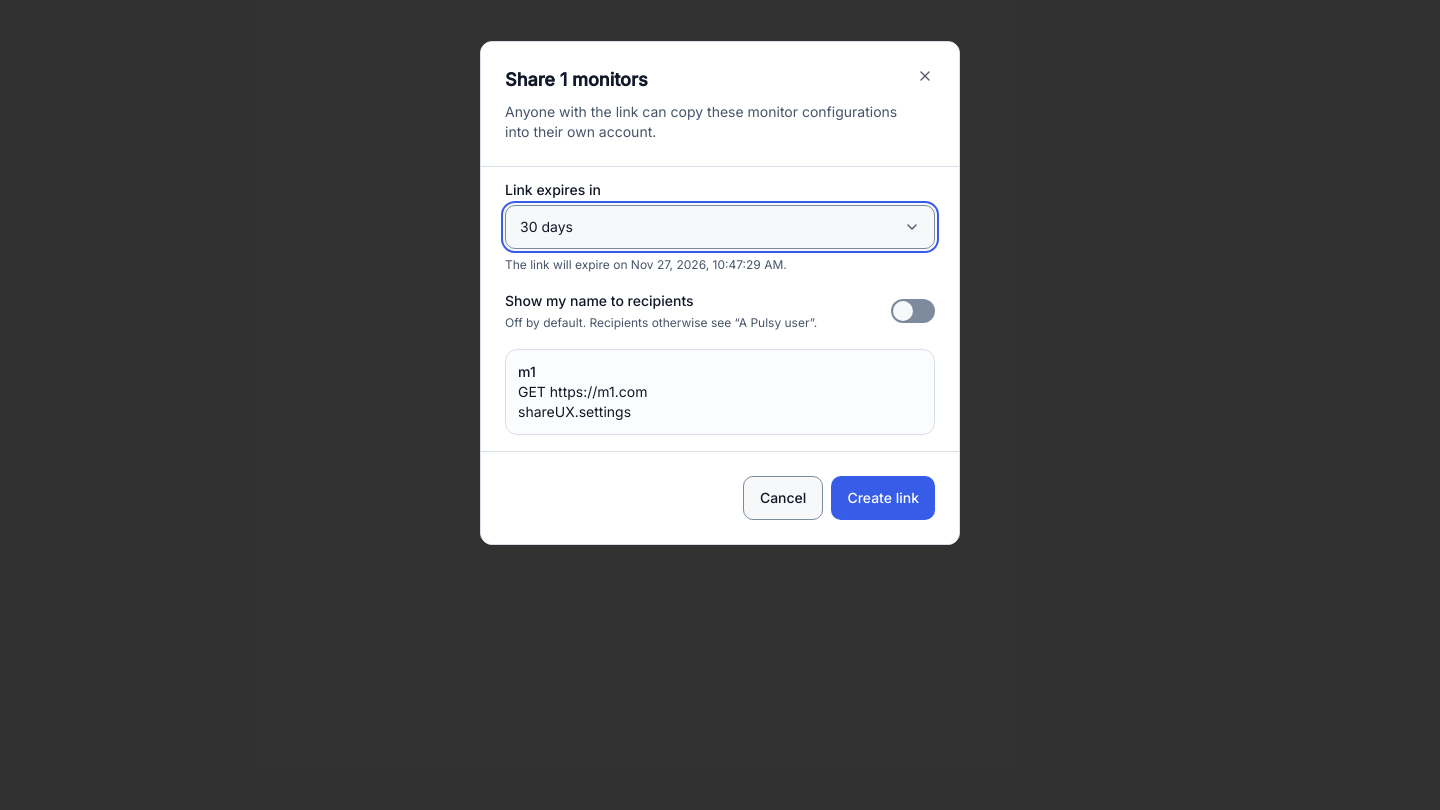
Scenario: ShareMonitorsDialog creation flow › creates a link with the default 30-day expiry and shows the URL
Click the button "Create link" at (883, 498), box [831, 476, 935, 520]
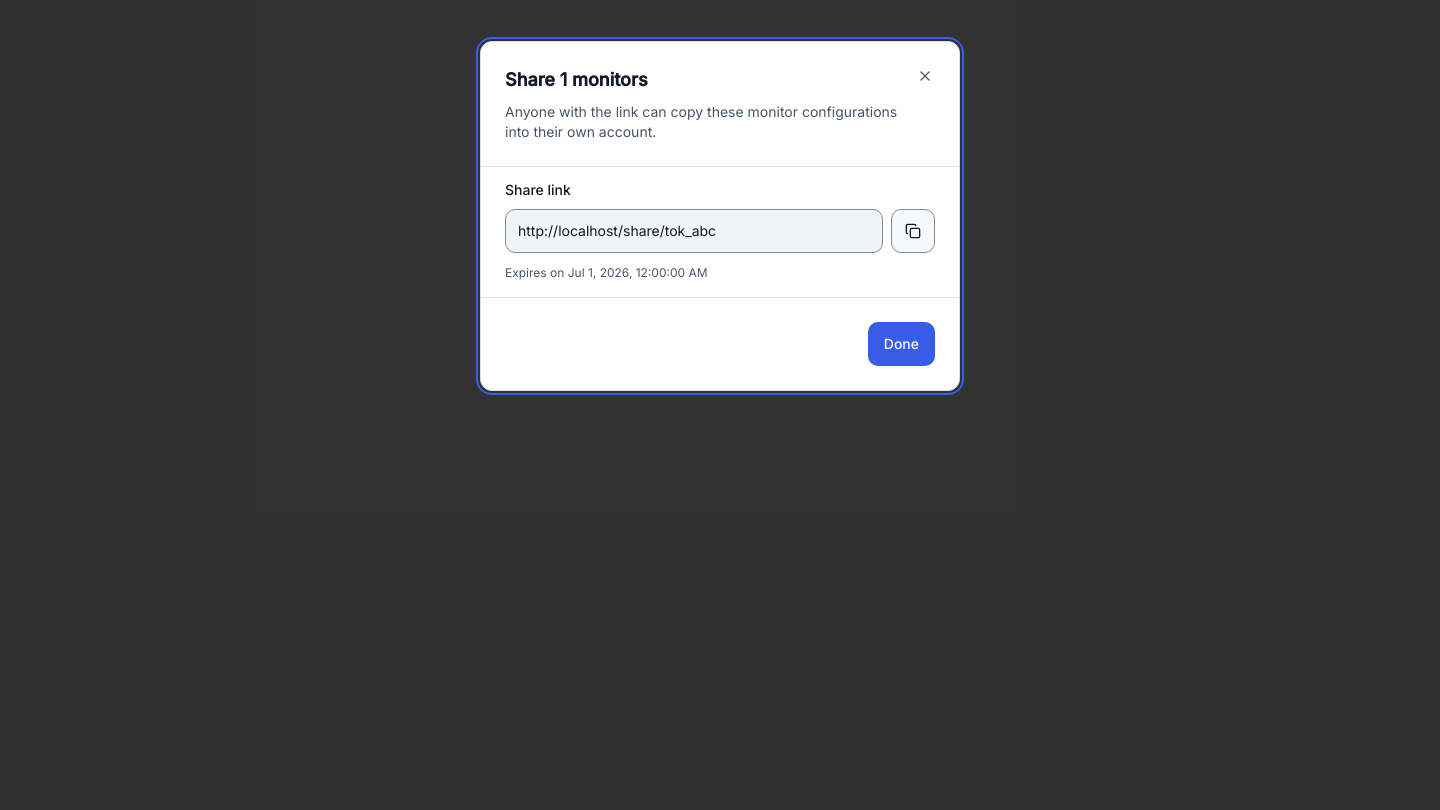
Expected: the text "Expires on Jul 1, 2026, 12:00:00 AM" is shown, [505, 264, 708, 280]
